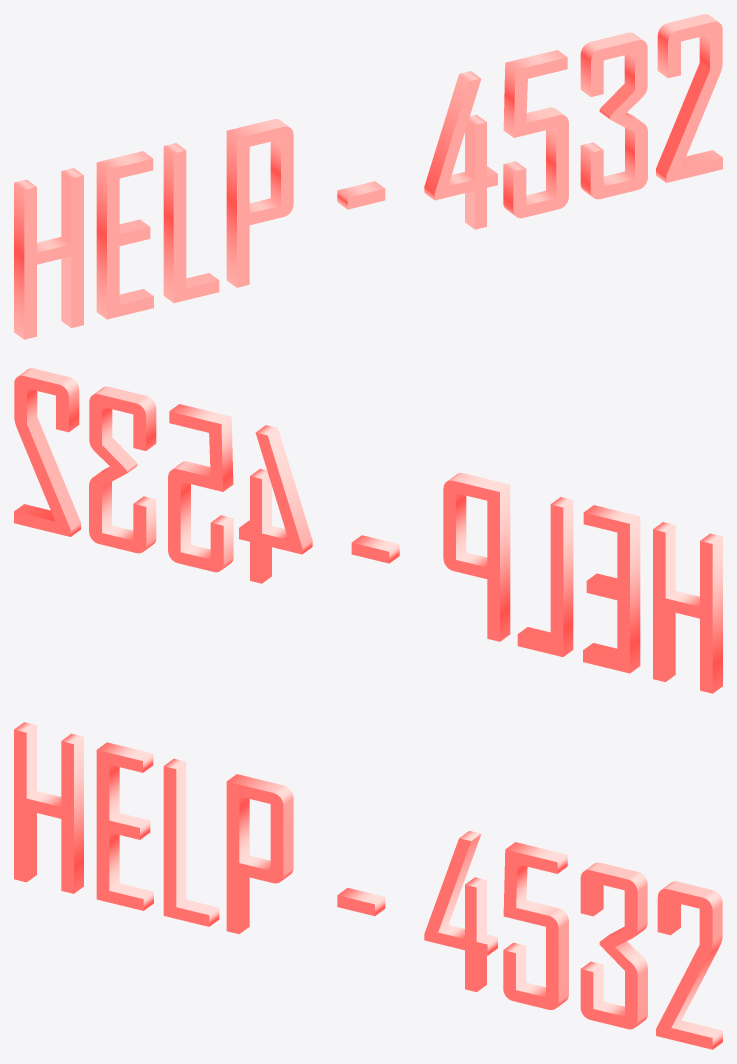
File: sign2.glb
The picture shows the model from 3 angles, top to bottom: view 1: azimuth 30°, elevation 25°; view 2: azimuth 150°, elevation 25°; view 3: azimuth 330°, elevation 25°; orthographic projection.
Visible parts, largest first — view 1: Text; view 2: Text; view 3: Text.
Part boxes in pixels (bbox=[...]): Text: bbox=[14, 14, 722, 339]; Text: bbox=[14, 368, 722, 693]; Text: bbox=[14, 722, 722, 1049].
Bounding box in the file's own units: 2.42 × 0.4947 × 0.0613.
